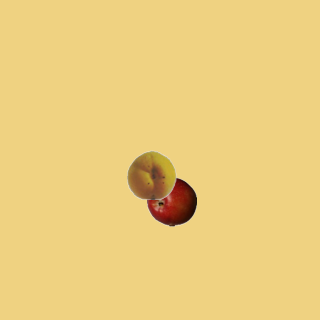Apple Braeburn: (146, 176, 196, 226)
Peach 2: (126, 149, 176, 199)
